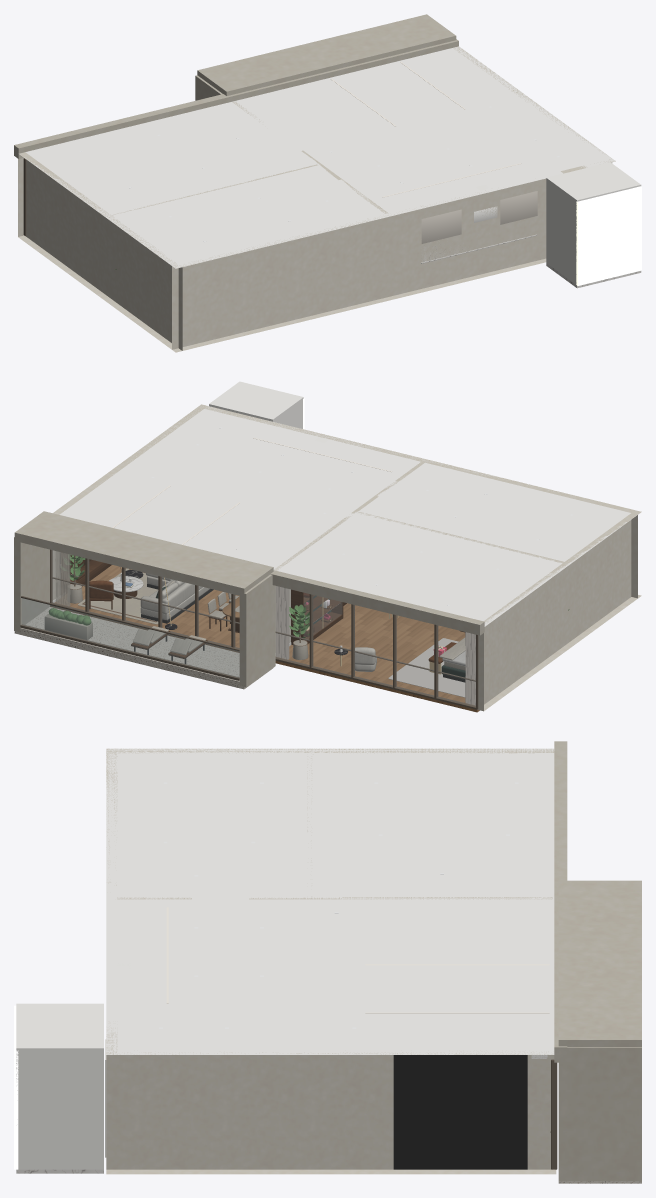
File: apartment.glb
The picture shows the model from 3 angles, top to bottom: view 1: azimuth 30°, elevation 25°; view 2: azimuth 150°, elevation 25°; view 3: azimuth 270°, elevation 25°; orthographic projection. The views are drawn at different scales.
Visible parts, largest first — view 1: ceiling, wall_south_a, wall_west, balcony_soffit, lobby_back, facade_head, lobby_side_-1, lobby_ceiling, pelmet, k_upper_w, k_upper_e, part_bed_study (+2 smaller); view 2: ceiling, window_glass, wall_west, floor_oak_main, balcony_soffit, balcony_rail_glass, mullions, balcony_slab, balcony_fin_w, facade_head, balcony_fin_e, wall_south_a (+15 smaller); view 3: ceiling, wall_east, tv_slat_back, balcony_soffit, balcony_fin_e, lobby_side_1, lobby_ceiling, facade_head, pelmet, wall_west, ceiling_led_slots, mullions (+1 smaller).
Part boxes in pixels (left/top/right/bottom): ceiling: left=21, top=46, right=615, bottom=268; wall_south_a: left=172, top=178, right=546, bottom=352; wall_west: left=18, top=152, right=182, bottom=352; balcony_soffit: left=197, top=14, right=456, bottom=95; lobby_back: left=576, top=186, right=641, bottom=285; facade_head: left=14, top=39, right=458, bottom=158; lobby_side_-1: left=546, top=179, right=576, bottom=284; lobby_ceiling: left=546, top=162, right=641, bottom=201; pelmet: left=38, top=49, right=459, bottom=156; k_upper_w: left=421, top=209, right=461, bottom=243; k_upper_e: left=500, top=191, right=537, bottom=224; part_bed_study: left=109, top=164, right=317, bottom=298; ceiling: left=59, top=406, right=635, bottom=626; window_glass: left=52, top=550, right=475, bottom=705; wall_west: left=477, top=510, right=640, bottom=711; floor_oak_main: left=50, top=565, right=479, bottom=712; balcony_soffit: left=14, top=511, right=273, bottom=596; balcony_rail_glass: left=21, top=598, right=239, bottom=677; mullions: left=50, top=549, right=478, bottom=709; balcony_slab: left=14, top=607, right=272, bottom=689; balcony_fin_w: left=239, top=574, right=275, bottom=687; facade_head: left=271, top=570, right=484, bottom=635; balcony_fin_e: left=14, top=537, right=49, bottom=632; wall_south_a: left=250, top=417, right=641, bottom=598; ceiling: left=106, top=748, right=554, bottom=1054; wall_east: left=106, top=1051, right=556, bottom=1174; tv_slat_back: left=393, top=1055, right=527, bottom=1169; balcony_soffit: left=558, top=880, right=641, bottom=1046; balcony_fin_e: left=558, top=1047, right=641, bottom=1180; lobby_side_1: left=16, top=1050, right=103, bottom=1169; lobby_ceiling: left=16, top=1003, right=103, bottom=1052; facade_head: left=554, top=741, right=567, bottom=1062; pelmet: left=531, top=753, right=547, bottom=1058; wall_west: left=108, top=748, right=554, bottom=753; ceiling_led_slots: left=166, top=907, right=549, bottom=1013; mullions: left=550, top=1059, right=557, bottom=1169.
Size of the model in its own units: 16.5 by 3.61 by 14.3.
Materials: 78 (29 with a texture image).
